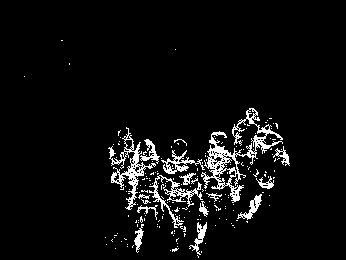person: (201, 130, 242, 258), (159, 136, 201, 255), (250, 116, 289, 223), (130, 136, 164, 254), (108, 125, 139, 224), (231, 106, 261, 185)
